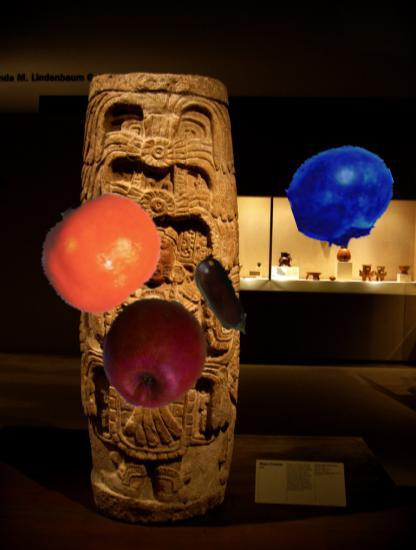Apple: (98, 297, 212, 411)
Clementine: (39, 190, 164, 315)
Eggplant: (178, 253, 268, 343)
Huckleberry: (290, 143, 396, 249)
